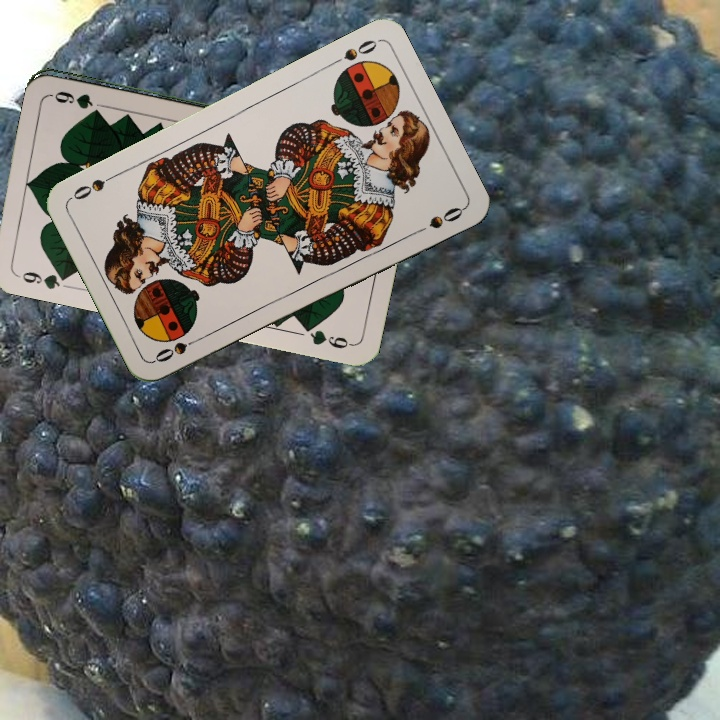G9: (11, 267, 72, 292)
SO: (150, 332, 207, 365), (326, 36, 380, 69)
